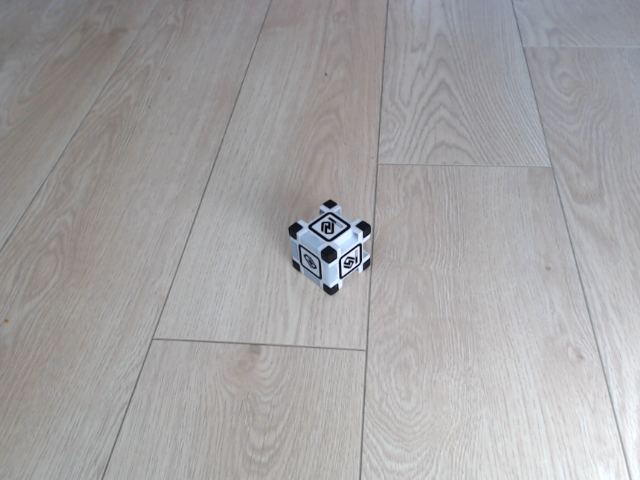block: (286, 197, 375, 297)
